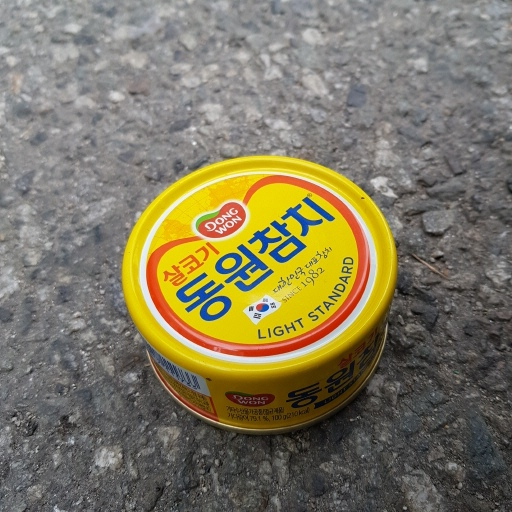Metal_1: (120, 151, 400, 436)
